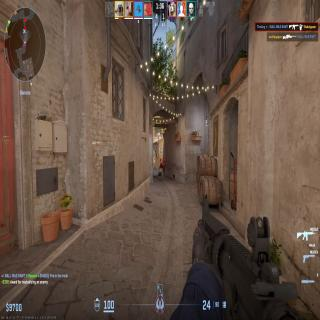T-Head: (160, 158, 162, 172), (160, 158, 161, 161)
